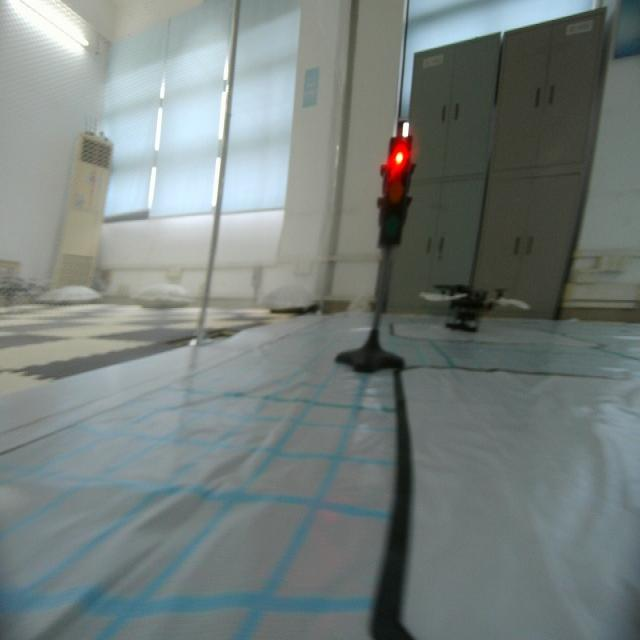red: (377, 133, 417, 252)
